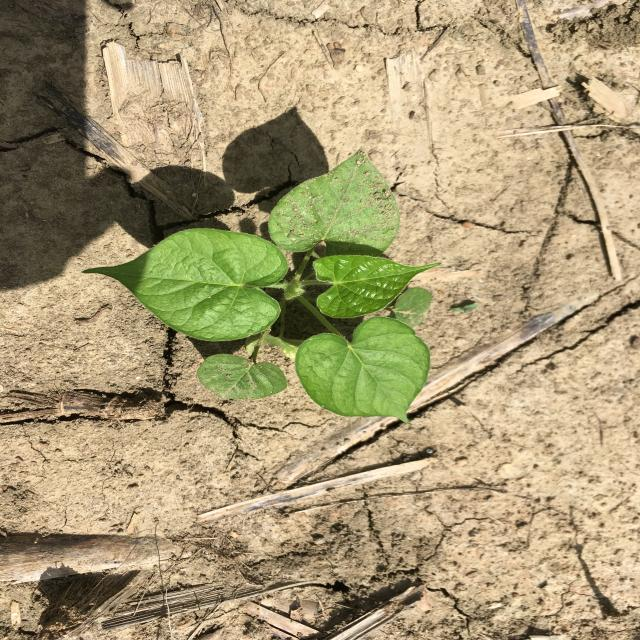MorningGlory: (82, 146, 443, 426)
